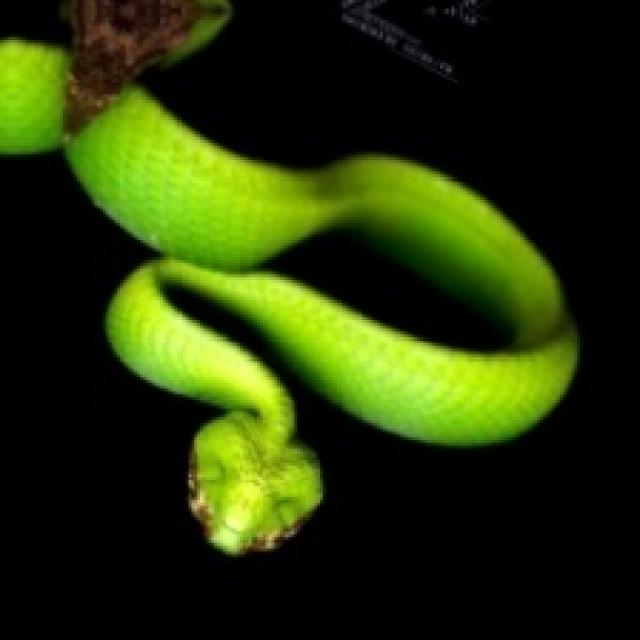north ph temple pitviper: (0, 0, 574, 551)
